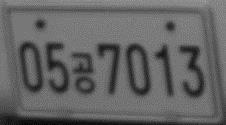0: (124, 42, 152, 95), (19, 41, 43, 92)
1: (152, 43, 180, 97)
3: (177, 43, 206, 98)
5: (43, 41, 70, 93)
7: (96, 41, 120, 94)
공: (70, 51, 96, 95)
